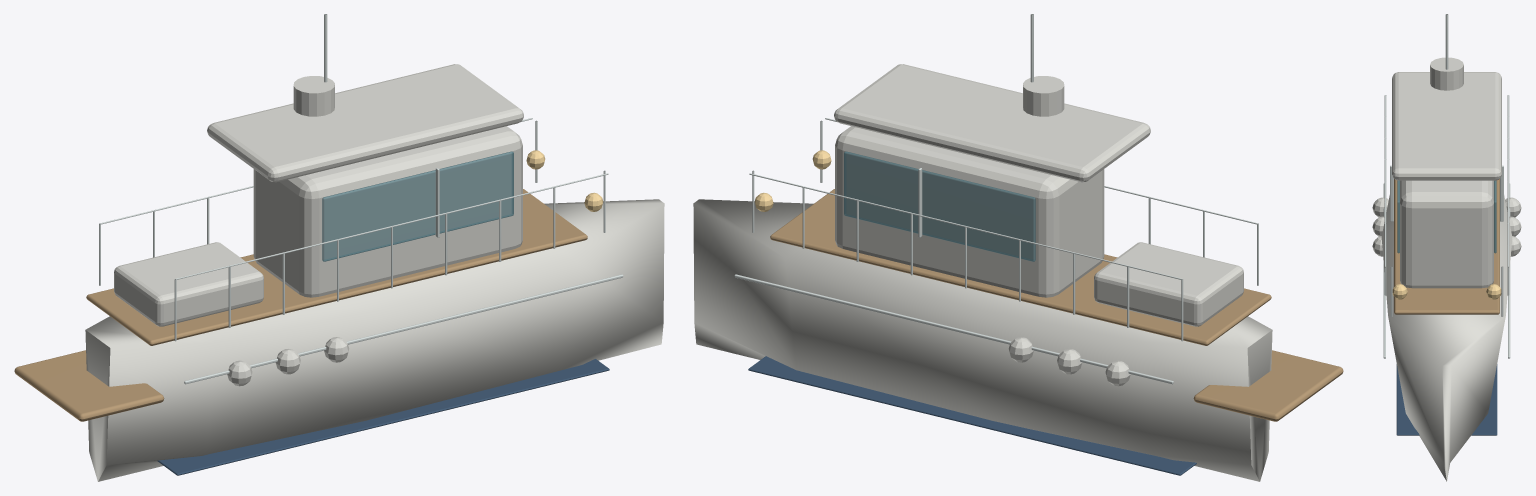
The picture shows the model from 3 angles, left to right: view 1: azimuth 30°, elevation 25°; view 2: azimuth 150°, elevation 25°; view 3: azimuth 270°, elevation 25°; orthographic projection. The views are drawn at different scales.
Parts seen in each view (by area): view 1: yacht ceramic gelcoat, yacht weathered deck teak, yacht continuous smoked bridge glazing, yacht polished stainless rail, deep navy waterline; view 2: yacht ceramic gelcoat, yacht weathered deck teak, yacht continuous smoked bridge glazing, yacht polished stainless rail, deep navy waterline; view 3: yacht ceramic gelcoat, yacht weathered deck teak, yacht polished stainless rail, deep navy waterline, yacht continuous smoked bridge glazing, yacht navigation light.
Part boxes in pixels (bbox=[...]): yacht ceramic gelcoat: bbox=[85, 64, 664, 481]; yacht weathered deck teak: bbox=[14, 189, 587, 421]; yacht continuous smoked bridge glazing: bbox=[322, 151, 513, 261]; yacht polished stainless rail: bbox=[99, 14, 623, 384]; deep navy waterline: bbox=[157, 359, 609, 475]; yacht ceramic gelcoat: bbox=[693, 64, 1272, 481]; yacht weathered deck teak: bbox=[770, 189, 1343, 421]; yacht continuous smoked bridge glazing: bbox=[844, 151, 1035, 261]; yacht polished stainless rail: bbox=[734, 14, 1258, 384]; deep navy waterline: bbox=[748, 356, 1196, 475]; yacht ceramic gelcoat: bbox=[1372, 57, 1521, 481]; yacht weathered deck teak: bbox=[1394, 179, 1499, 314]; yacht polished stainless rail: bbox=[1383, 14, 1510, 358]; deep navy waterline: bbox=[1396, 364, 1497, 435]; yacht continuous smoked bridge glazing: bbox=[1397, 180, 1496, 253]; yacht navigation light: bbox=[1392, 284, 1501, 299].
Bounding box in the file's own units: 15.12 × 9.67 × 3.91.
